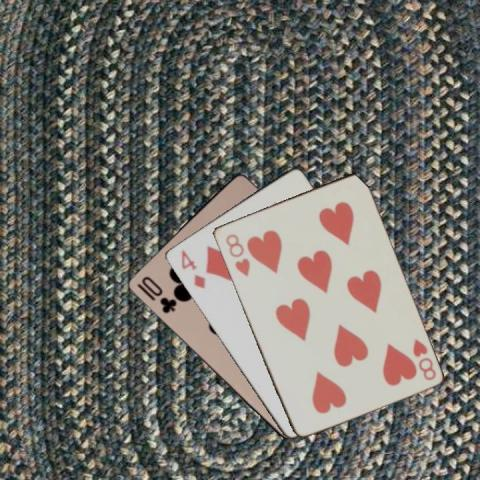10c: (134, 274, 178, 316)
4d: (177, 246, 207, 290)
8h: (222, 231, 251, 278), (410, 335, 438, 382)
